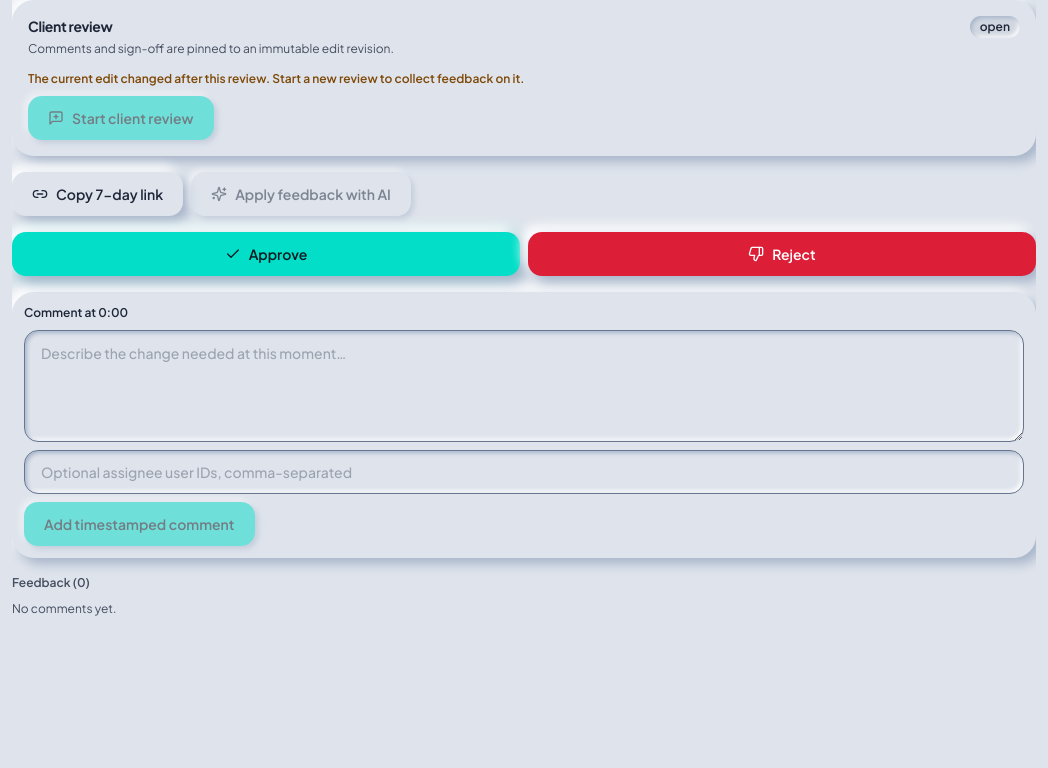
Scenario: ReviewPanel share link › shows the link for copying by hand when the browser refuses
Click the button "Copy 7-day link": click(98, 194) top-left (12, 172), bottom-right (183, 216)
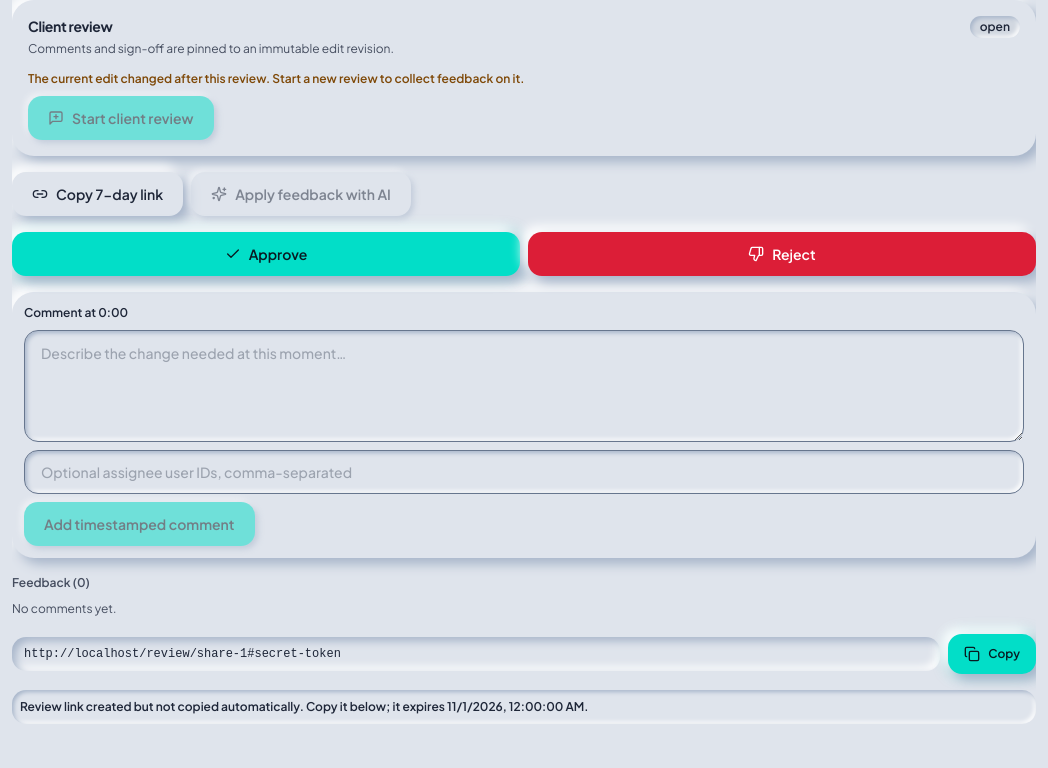
Check: the text "not copied automatically" is shown, box top-left (20, 699), bottom-right (588, 714)
